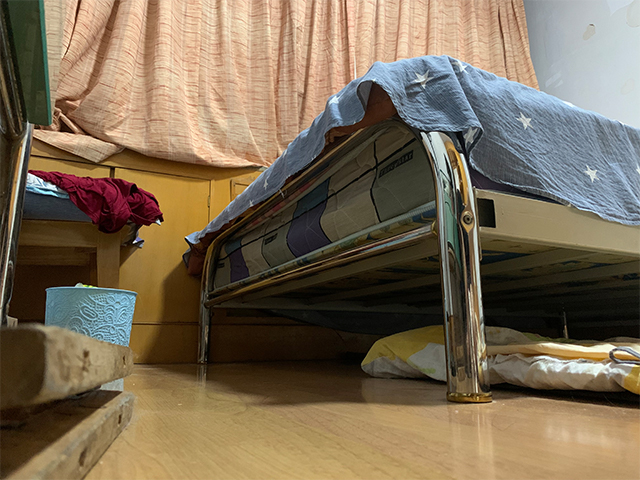bed: (175, 53, 640, 407)
trash can: (44, 286, 140, 392)
